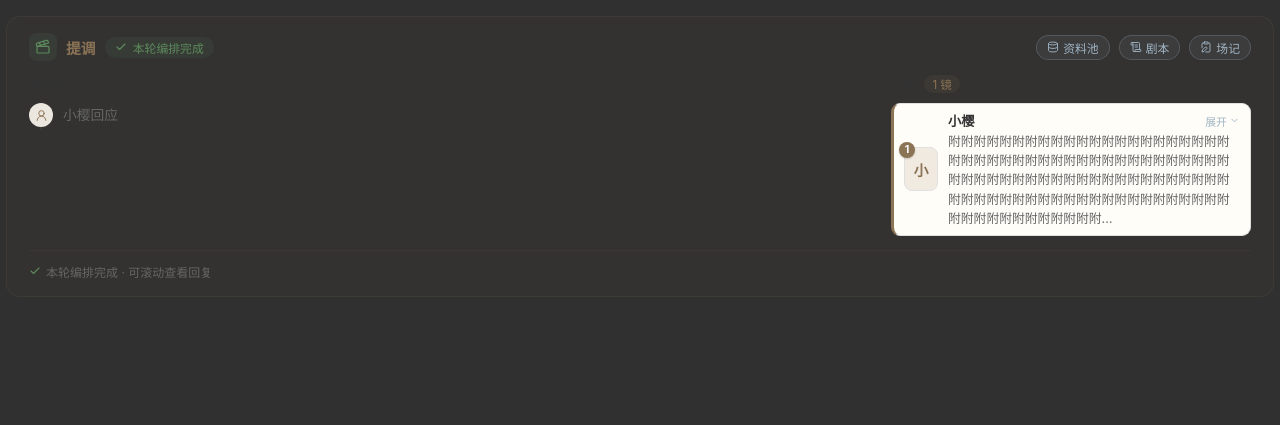
Test case: TidiaoDirectorStreamBand › 形态1·E5 角色镜钻取（per-speaker 过程可见性） › （批次B）角色镜长方向 + 编排明细：一个「展开」按钮同时展开全文方向与子工作流
This screenshot has width=1280, height=425.
Check: the text with class "tds-shot-dir" shows "…", box top-left (948, 132), bottom-right (1240, 228)
// 一键展开：全文方向 + 子工作流同时出现
Click the button with class "tds-shot-drill" at coordinates (1223, 120), box top-left (1205, 112), bottom-right (1240, 128)
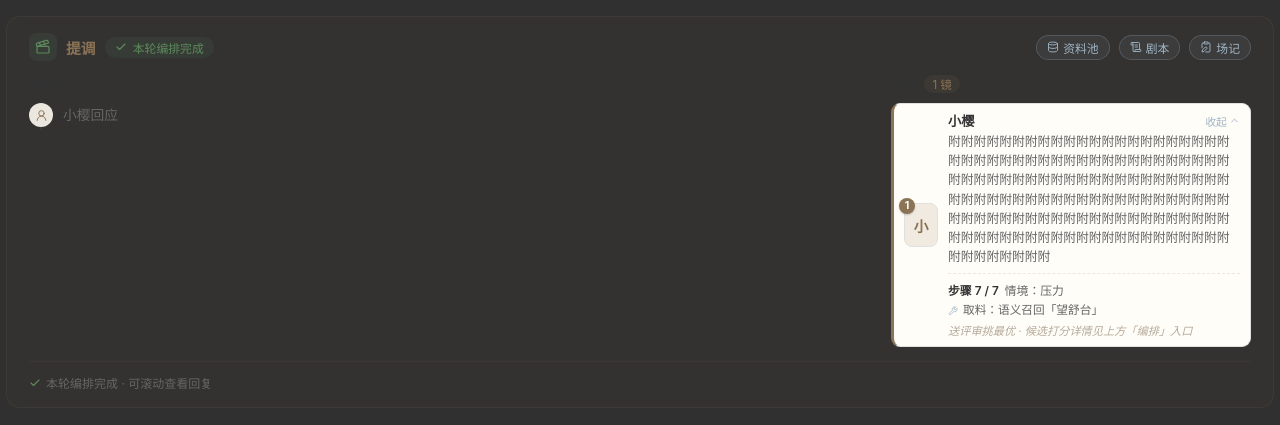
Check: the element with class "tds-shot-detail" is shown, box top-left (948, 273), bottom-right (1240, 340)
Check: the element with class "tds-shot-detail" shows "望舒台", box top-left (963, 303), bottom-right (1103, 317)
